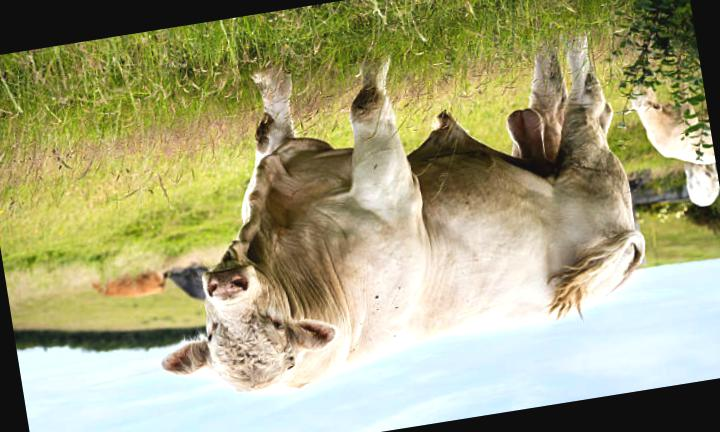Charolais: (162, 39, 644, 391)
